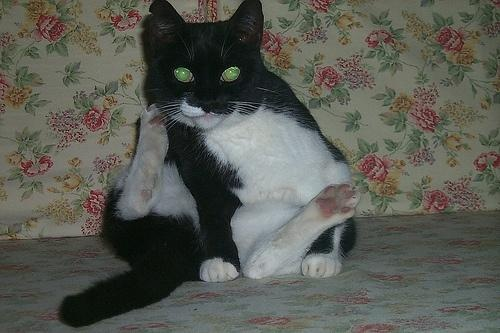cat: (68, 2, 369, 323)
